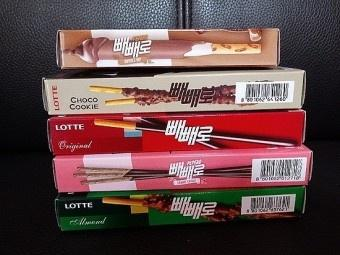snack: (42, 65, 306, 115), (51, 144, 314, 193), (54, 185, 308, 233), (46, 111, 307, 156), (57, 27, 280, 67)
